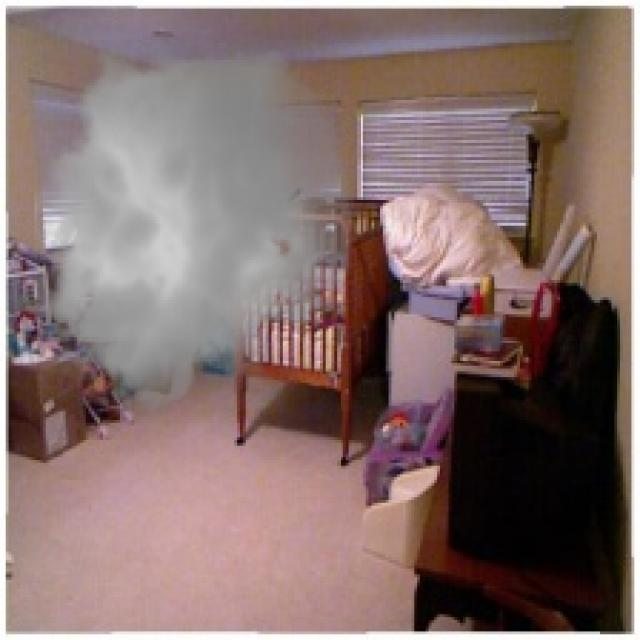smoke: (20, 28, 366, 426)
